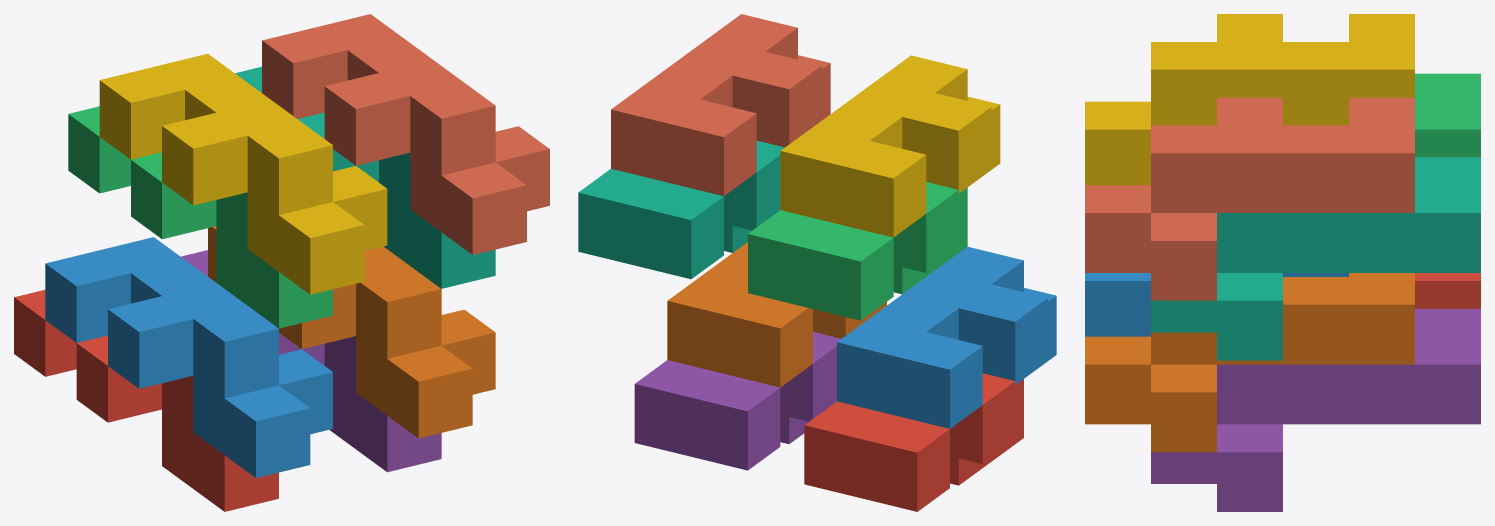
File: tiling.obj
3 views of the same model, side by side, from view 1: azimuth 30°, elevation 25°; view 2: azimuth 150°, elevation 25°; view 3: azimuth 270°, elevation 25° (orthographic). The views are drawn at different scales.
Parts seen in each view (by area): view 1: copy_1_domain_4, copy_1_domain_2, copy_1_domain_8, copy_1_domain_6, copy_1_domain_1, copy_1_domain_3, copy_1_domain_7, copy_1_domain_5; view 2: copy_1_domain_4, copy_1_domain_2, copy_1_domain_8, copy_1_domain_1, copy_1_domain_3, copy_1_domain_7, copy_1_domain_5, copy_1_domain_6; view 3: copy_1_domain_8, copy_1_domain_4, copy_1_domain_5, copy_1_domain_7, copy_1_domain_6, copy_1_domain_3, copy_1_domain_2, copy_1_domain_1.
Part boxes in pixels (left/top/right/bottom): copy_1_domain_4: left=99, top=53, right=387, bottom=294; copy_1_domain_2: left=45, top=237, right=332, bottom=477; copy_1_domain_8: left=262, top=14, right=549, bottom=254; copy_1_domain_6: left=208, top=226, right=495, bottom=438; copy_1_domain_1: left=14, top=290, right=278, bottom=511; copy_1_domain_3: left=68, top=106, right=332, bottom=328; copy_1_domain_7: left=235, top=66, right=495, bottom=288; copy_1_domain_5: left=181, top=250, right=441, bottom=472; copy_1_domain_4: left=780, top=55, right=1000, bottom=237; copy_1_domain_2: left=837, top=246, right=1056, bottom=428; copy_1_domain_8: left=611, top=14, right=830, bottom=196; copy_1_domain_1: left=804, top=373, right=1023, bottom=511; copy_1_domain_3: left=748, top=182, right=967, bottom=320; copy_1_domain_7: left=578, top=140, right=784, bottom=279; copy_1_domain_5: left=634, top=332, right=841, bottom=470; copy_1_domain_6: left=667, top=242, right=886, bottom=387; copy_1_domain_8: left=1085, top=97, right=1414, bottom=300; copy_1_domain_4: left=1085, top=14, right=1414, bottom=185; copy_1_domain_5: left=1151, top=309, right=1480, bottom=511; copy_1_domain_7: left=1151, top=157, right=1480, bottom=360; copy_1_domain_6: left=1085, top=273, right=1414, bottom=452; copy_1_domain_3: left=1415, top=73, right=1480, bottom=157; copy_1_domain_2: left=1085, top=273, right=1348, bottom=336; copy_1_domain_1: left=1415, top=273, right=1480, bottom=308.
Bounding box in the file's own units: 7 × 6 × 6.
